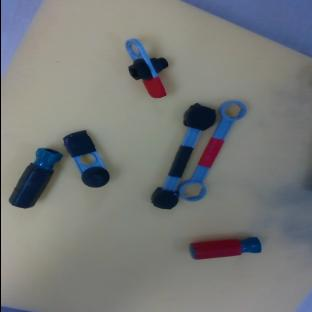part_1_bad: (59, 127, 111, 194)
part_1_good: (109, 32, 182, 103)
part_2_bad: (5, 142, 64, 215)
part_2_good: (188, 237, 260, 260)
part_3_bad: (147, 100, 218, 216)
part_3_good: (174, 95, 248, 207)
